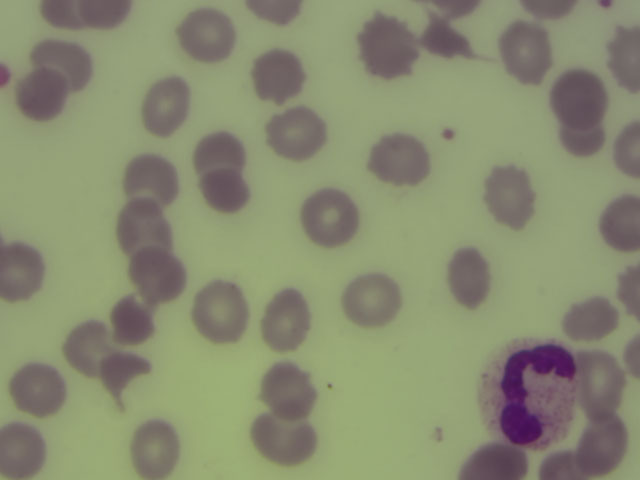Platelets: (435, 121, 462, 146)
RBC: (574, 345, 626, 415), (597, 192, 640, 258), (583, 407, 624, 476), (26, 37, 91, 80), (1, 421, 48, 480), (61, 321, 116, 371), (443, 252, 496, 302), (561, 294, 614, 344), (484, 170, 537, 220), (554, 72, 607, 122), (502, 27, 555, 77), (372, 134, 425, 184), (421, 12, 474, 62), (361, 23, 414, 73), (348, 276, 401, 326), (303, 190, 356, 240), (261, 296, 314, 346), (264, 364, 317, 414), (256, 414, 309, 464), (191, 286, 244, 336), (129, 423, 182, 473), (12, 364, 65, 414), (109, 300, 162, 350), (128, 251, 181, 301), (116, 207, 169, 257), (124, 157, 177, 207), (192, 130, 245, 180), (270, 107, 323, 157), (140, 82, 193, 132), (251, 52, 304, 102), (177, 9, 230, 59), (17, 69, 70, 119), (202, 166, 252, 213), (1, 244, 43, 296), (460, 445, 522, 480), (553, 119, 608, 158), (611, 27, 640, 90), (610, 123, 640, 182), (247, 1, 306, 29), (73, 1, 132, 28), (534, 451, 584, 480), (38, 1, 81, 28), (621, 265, 640, 319)
WBC: (478, 337, 578, 446)
